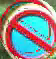No waiting: (7, 7, 51, 58)
